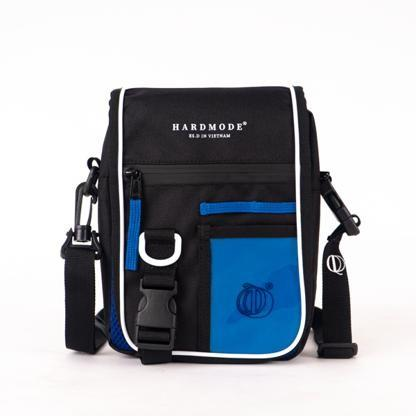not trash: (58, 81, 363, 365)
